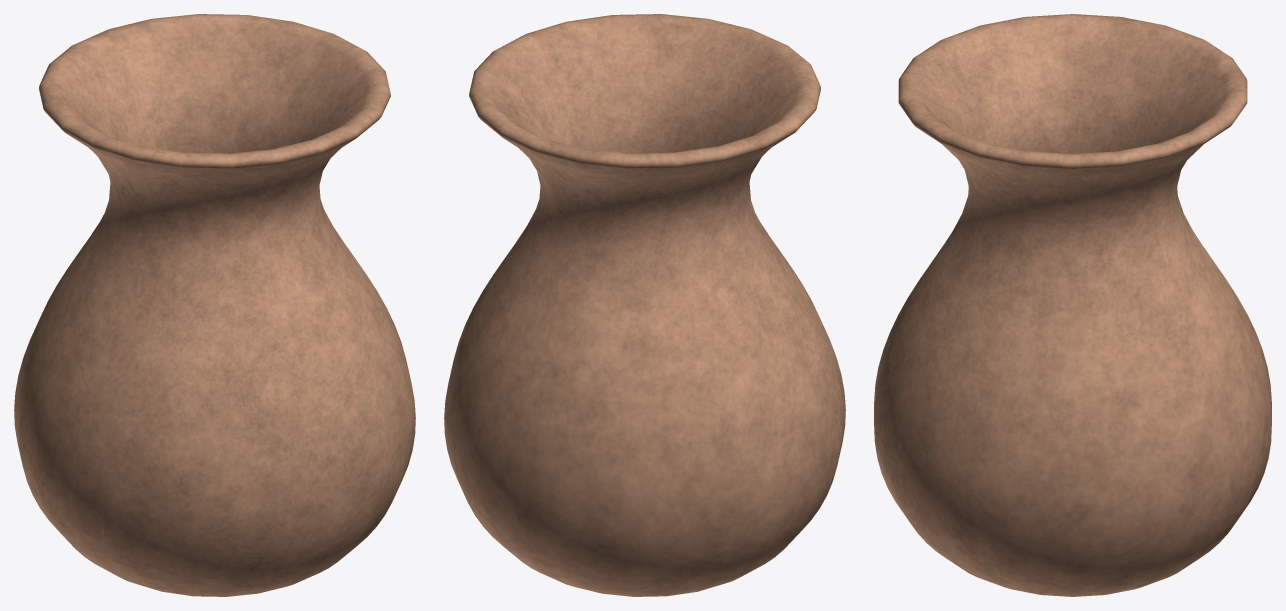
The model's file is Vase-1-beige.glb.
3 renders of one model, left to right at view 1: azimuth 30°, elevation 25°; view 2: azimuth 150°, elevation 25°; view 3: azimuth 270°, elevation 25°, orthographic.
Visible parts, largest first — view 1: Vase_1; view 2: Vase_1; view 3: Vase_1.
Boxes of the visible parts, bbox=[...] form: Vase_1: bbox=[14, 14, 415, 596]; Vase_1: bbox=[444, 14, 845, 596]; Vase_1: bbox=[874, 14, 1271, 596].
Size of the model in its own units: 0.6878 by 0.8905 by 0.6808.
Materials: 1 (1 with a texture image).
